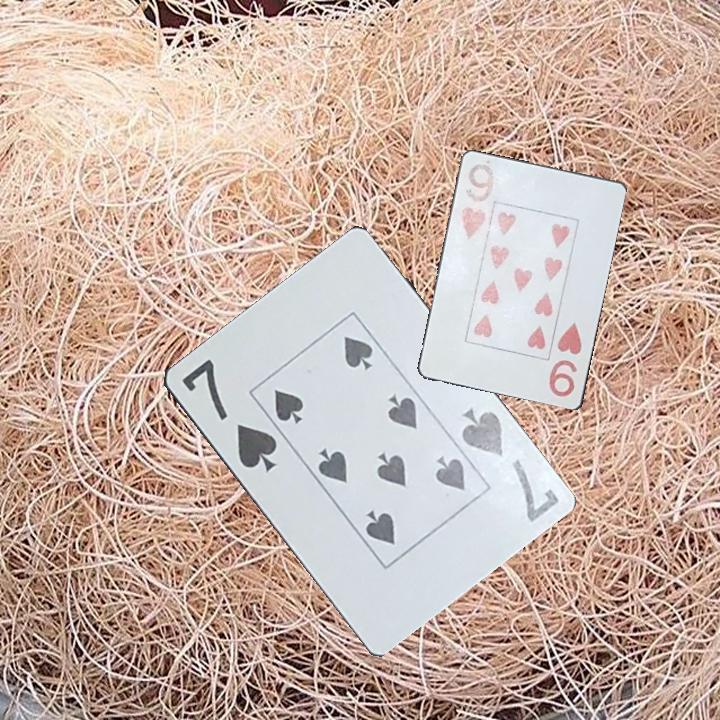7s: (452, 404, 562, 526), (177, 355, 280, 476)
9h: (455, 158, 498, 242), (545, 318, 585, 400)
